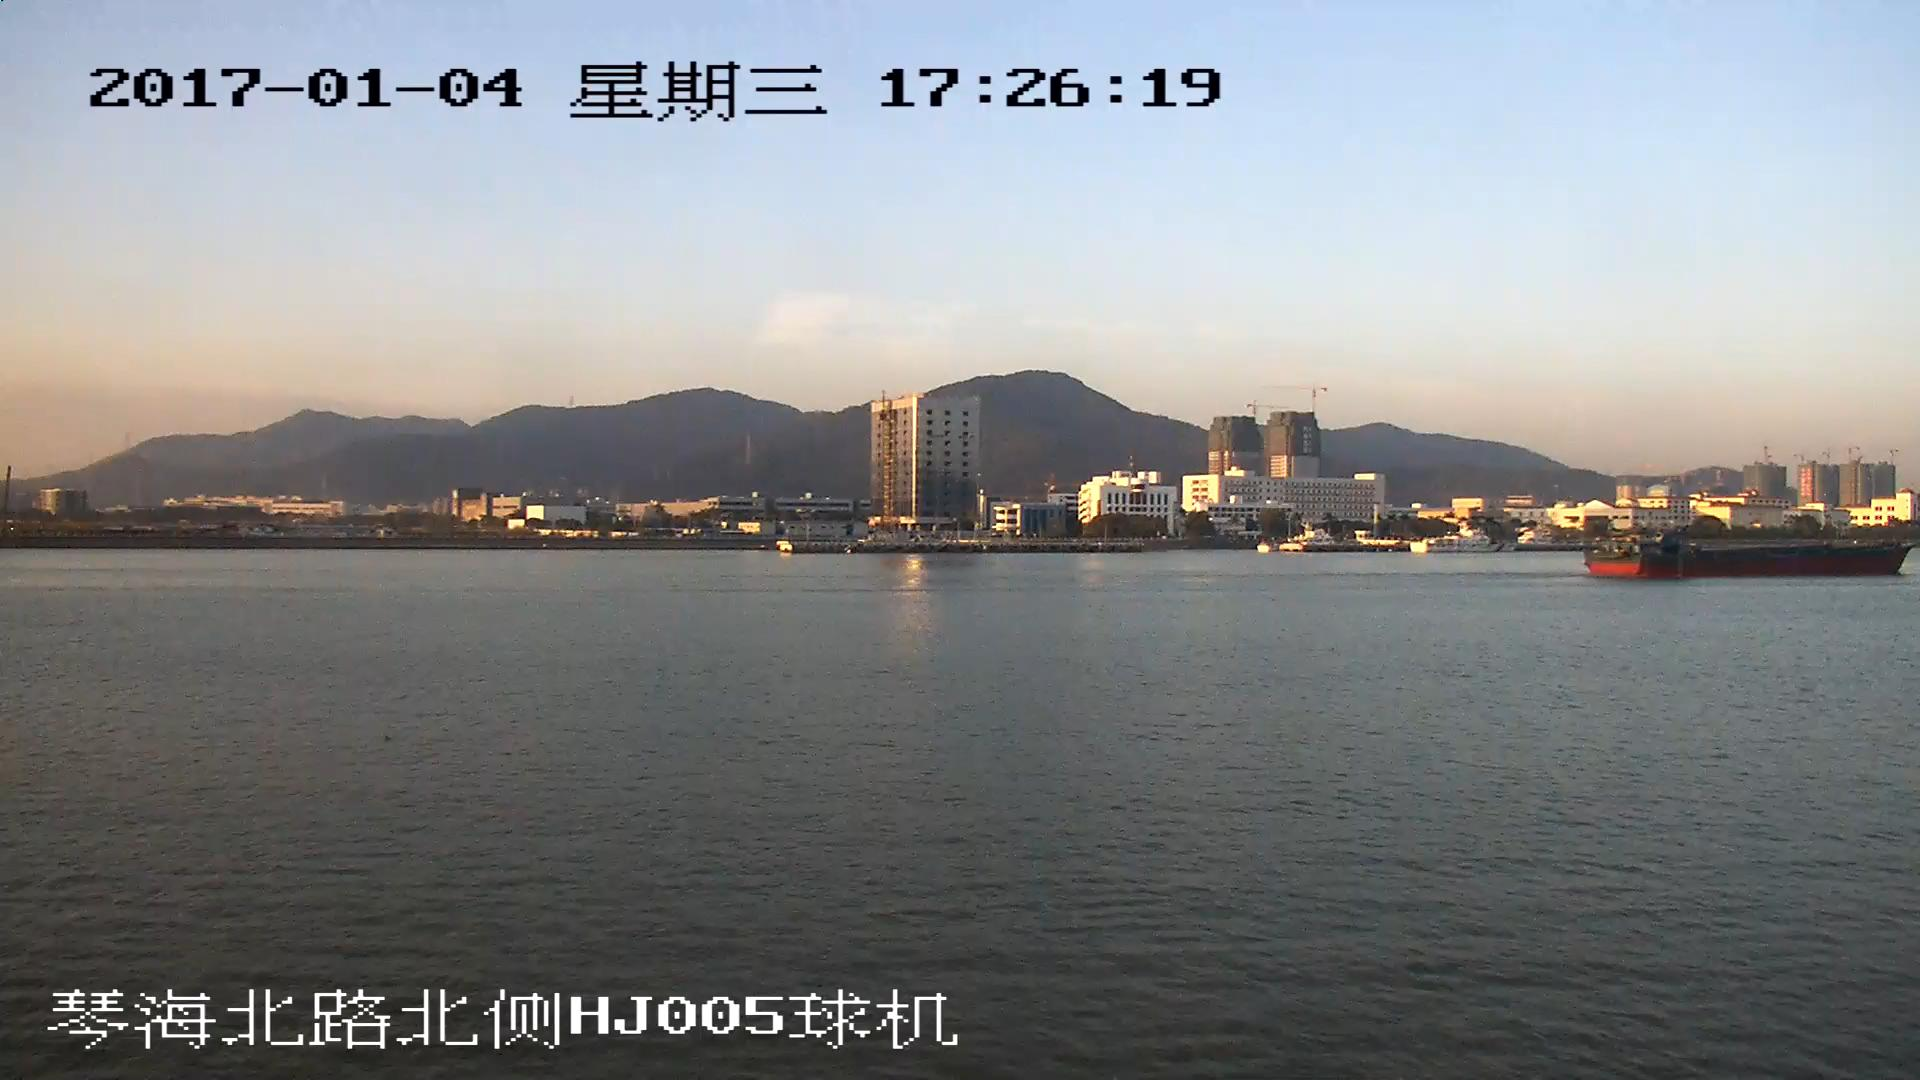general cargo ship: (1588, 522, 1911, 583)
